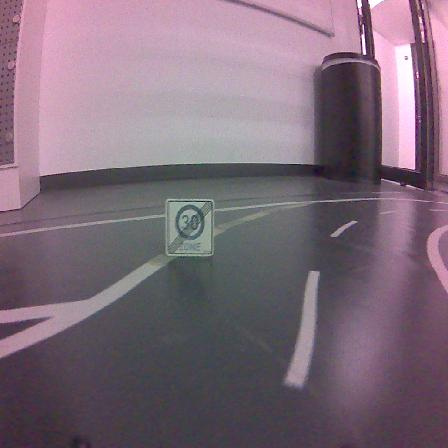30_ZONE_END: (165, 199, 214, 256)
